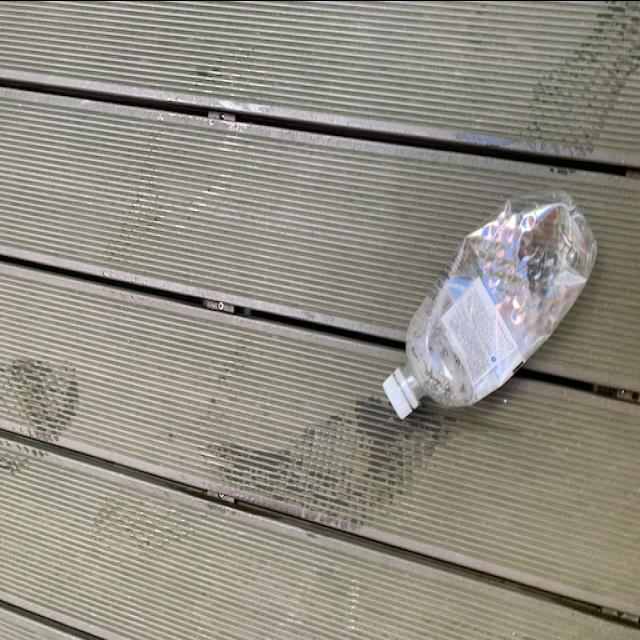PET: (385, 184, 603, 418)
